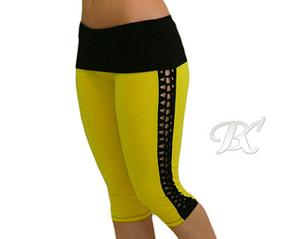C_W_pants: (72, 12, 204, 230)
